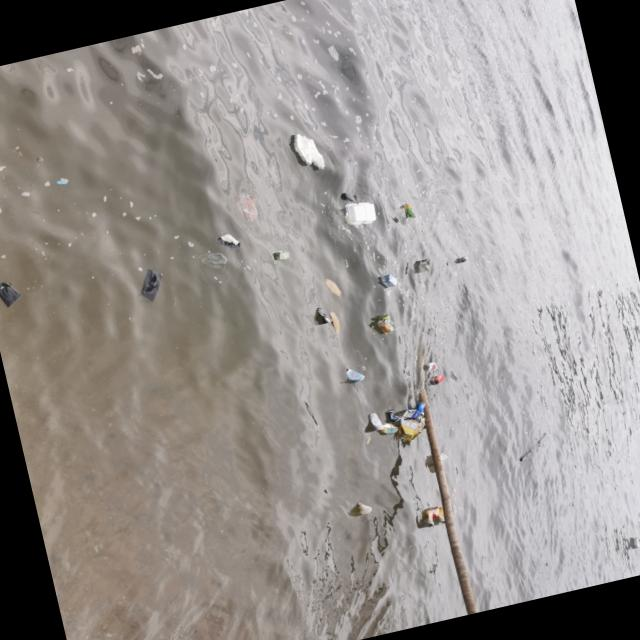can: (401, 407, 423, 427), (345, 366, 366, 385), (377, 422, 399, 438), (316, 306, 333, 326), (367, 413, 383, 433), (420, 510, 436, 529), (402, 203, 418, 221), (435, 506, 449, 525), (386, 408, 401, 424), (423, 362, 439, 374), (416, 402, 428, 418), (432, 375, 447, 386), (458, 256, 469, 264)
foam: (292, 130, 326, 175), (345, 199, 378, 229), (440, 452, 450, 465), (632, 536, 640, 549)
